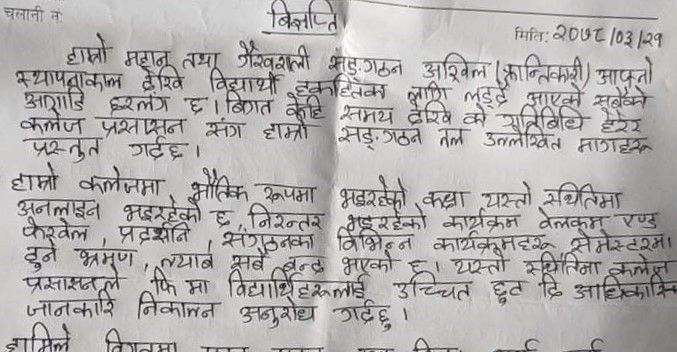text: (223, 269, 369, 301), (572, 275, 677, 304), (429, 229, 555, 253), (334, 120, 425, 153), (75, 164, 164, 197), (230, 38, 312, 73), (23, 292, 118, 321), (551, 21, 646, 49), (20, 63, 125, 88), (504, 52, 585, 84), (564, 231, 672, 255), (541, 180, 624, 211), (339, 174, 410, 210), (498, 104, 588, 132), (188, 165, 252, 204), (264, 1, 341, 33), (392, 273, 475, 302), (13, 194, 102, 221), (122, 194, 202, 224), (238, 300, 318, 330), (295, 72, 385, 98), (328, 228, 417, 254), (96, 111, 184, 137), (22, 271, 121, 294), (325, 48, 403, 77), (521, 251, 604, 278), (246, 203, 326, 231), (482, 127, 565, 153), (218, 229, 315, 251), (419, 52, 492, 81), (28, 134, 101, 163), (206, 65, 281, 93), (116, 219, 191, 246), (132, 297, 215, 321), (344, 208, 428, 231), (572, 134, 652, 157), (440, 211, 520, 234), (16, 109, 84, 136), (20, 216, 90, 242), (593, 59, 654, 88), (332, 304, 394, 332), (22, 87, 88, 113), (125, 137, 188, 164), (105, 91, 174, 115), (64, 32, 111, 67), (534, 209, 608, 231), (78, 239, 138, 266), (9, 164, 61, 195), (258, 179, 317, 206), (482, 181, 534, 211), (605, 254, 672, 277), (451, 251, 510, 277), (523, 83, 586, 107), (337, 249, 395, 275), (225, 90, 277, 118), (339, 101, 395, 125), (592, 87, 651, 109), (160, 248, 216, 271), (260, 118, 312, 142), (21, 241, 61, 272), (138, 66, 185, 92), (406, 101, 453, 127), (598, 107, 642, 134), (486, 276, 525, 306), (123, 44, 171, 67), (402, 81, 452, 103), (422, 187, 466, 212), (462, 82, 511, 104), (282, 252, 331, 274), (202, 118, 245, 142), (284, 94, 325, 119), (228, 246, 267, 271), (437, 124, 468, 151), (616, 212, 659, 231), (460, 103, 491, 128), (179, 50, 221, 68), (149, 270, 178, 296), (538, 274, 565, 301), (179, 276, 211, 296), (182, 94, 208, 117), (210, 208, 234, 230), (407, 258, 426, 273)
